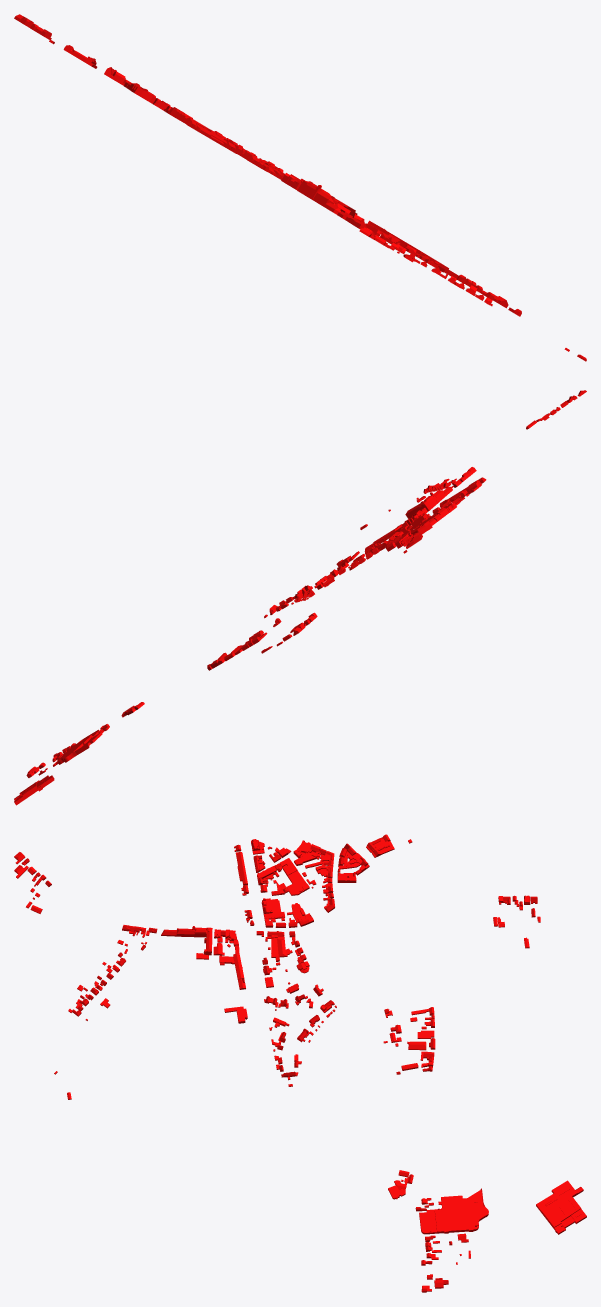
3 renders of one model, top to bottom at view 1: azimuth 30°, elevation 25°; view 2: azimuth 150°, elevation 25°; view 3: azimuth 270°, elevation 25°, orthographic. The views are drawn at different scales.
Visible parts, largest first — view 1: mesh; view 2: mesh; view 3: mesh.
Boxes of the visible parts, bbox=[...] form: mesh: bbox=[14, 14, 586, 361]; mesh: bbox=[14, 390, 586, 805]; mesh: bbox=[14, 834, 586, 1292].
Size of the model in its own units: 751 by 605 by 1076.
